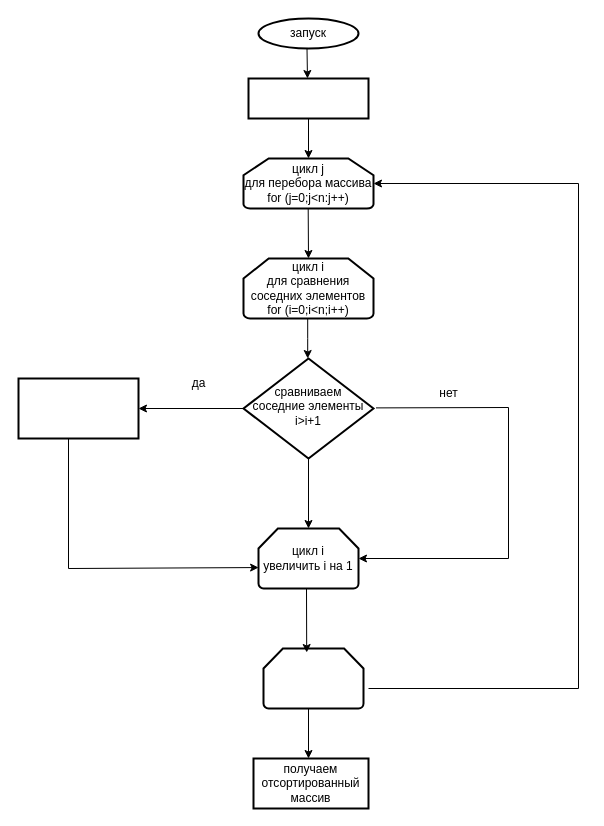
The diagram is 604 pixels wide and 826 high, and some of its shapes have lost their labels. Here are the shapes that lost their labels. From the top down, the box of each, then its label:
(247, 77, 369, 119): получаем массив длиной n
(17, 377, 139, 439): меняем местами i и i+1
(262, 647, 364, 709): цикл j увеличить j на 1
